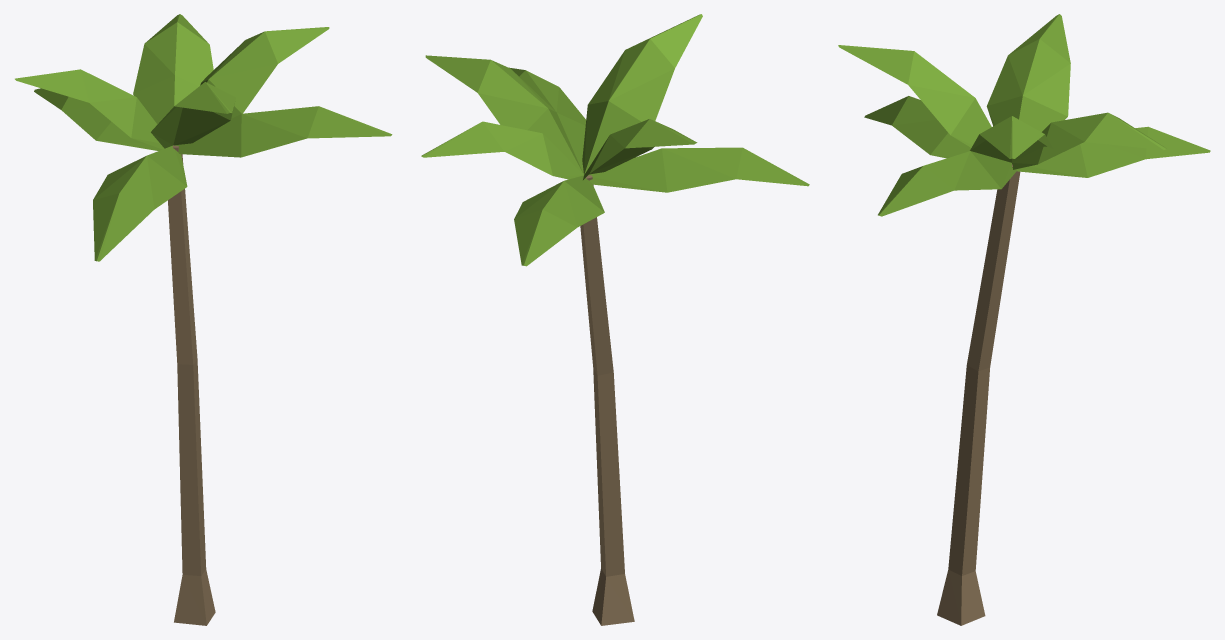
File: palm_a_lod1.glb
3 views of the same model, side by side, from view 1: azimuth 30°, elevation 25°; view 2: azimuth 150°, elevation 25°; view 3: azimuth 270°, elevation 25° (orthographic).
Parts seen in each view (by area): view 1: palm; view 2: palm; view 3: palm.
Boxes of the visible parts, <box> form: palm: <box>15,14,392,625</box>; palm: <box>421,14,809,625</box>; palm: <box>838,14,1210,625</box>.
Size of the model in its own units: 6.14 by 10.67 by 6.45.
